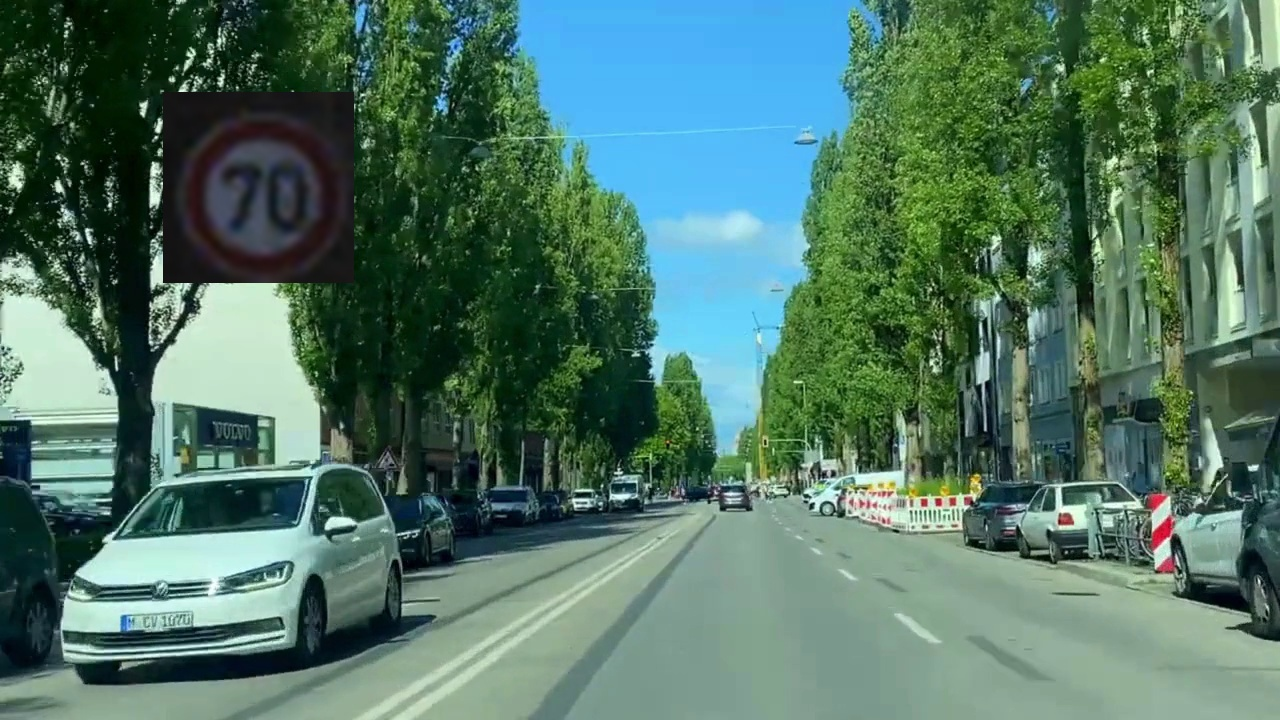Speed 70: (163, 92, 354, 283)
